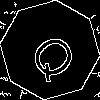Q: (25, 25, 87, 86)
